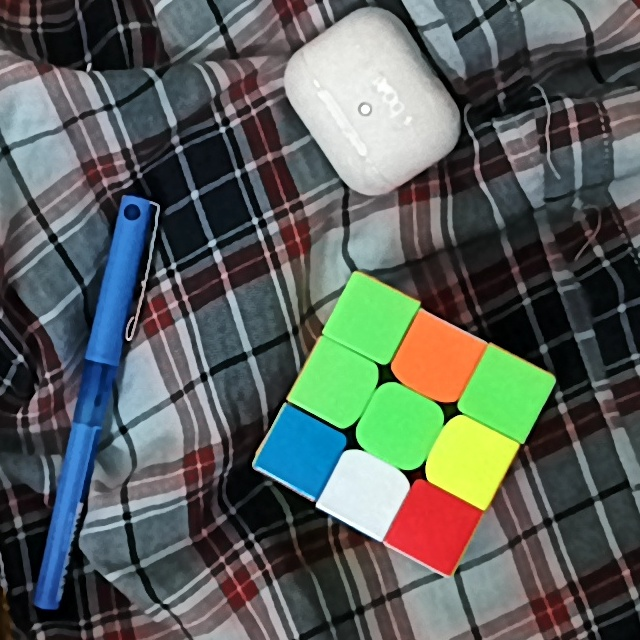tile: (479, 365, 535, 423), (410, 330, 464, 385), (444, 432, 497, 487), (405, 502, 462, 553), (376, 396, 427, 451), (345, 295, 399, 343), (277, 424, 325, 478), (310, 359, 361, 406), (340, 469, 390, 514)
